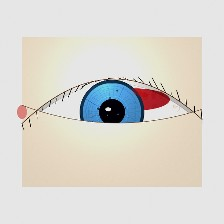hemorrhage_spot: (85, 60, 183, 139)
